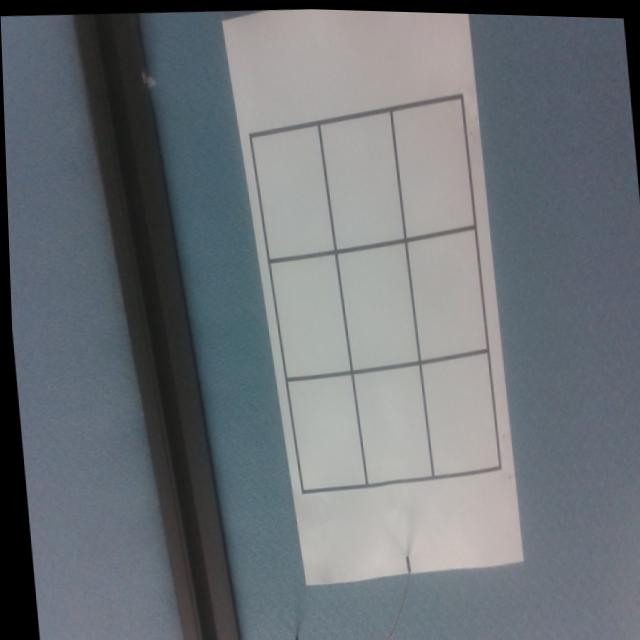null: (317, 104, 404, 251), (390, 90, 473, 239), (248, 115, 333, 260), (334, 238, 418, 371), (404, 224, 484, 360), (268, 247, 347, 378), (418, 348, 496, 475), (351, 360, 428, 483), (284, 368, 361, 491)
table: (245, 92, 512, 497)
